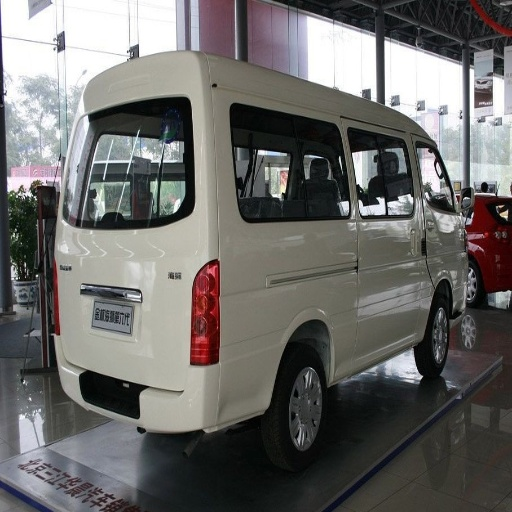back_bumper: (64, 364, 249, 430)
back_right_door: (417, 162, 456, 243)
trunk: (218, 220, 434, 409), (59, 223, 207, 387)
